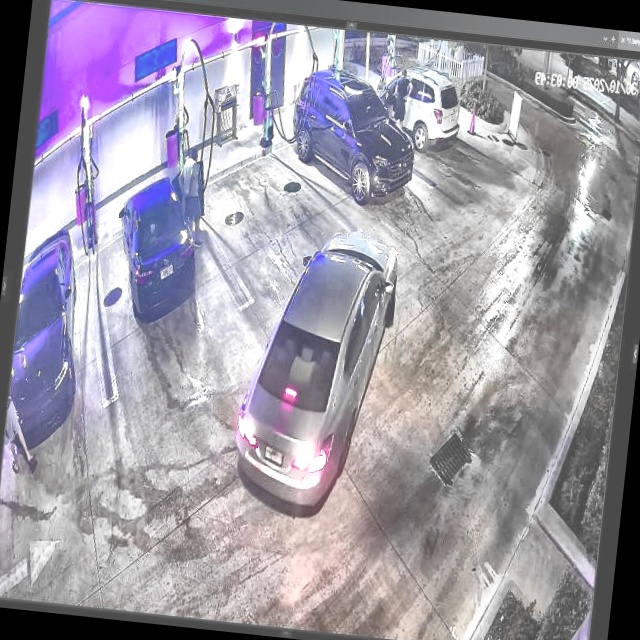Car: (227, 221, 399, 514), (285, 62, 423, 206), (108, 156, 207, 322), (362, 64, 466, 151)
